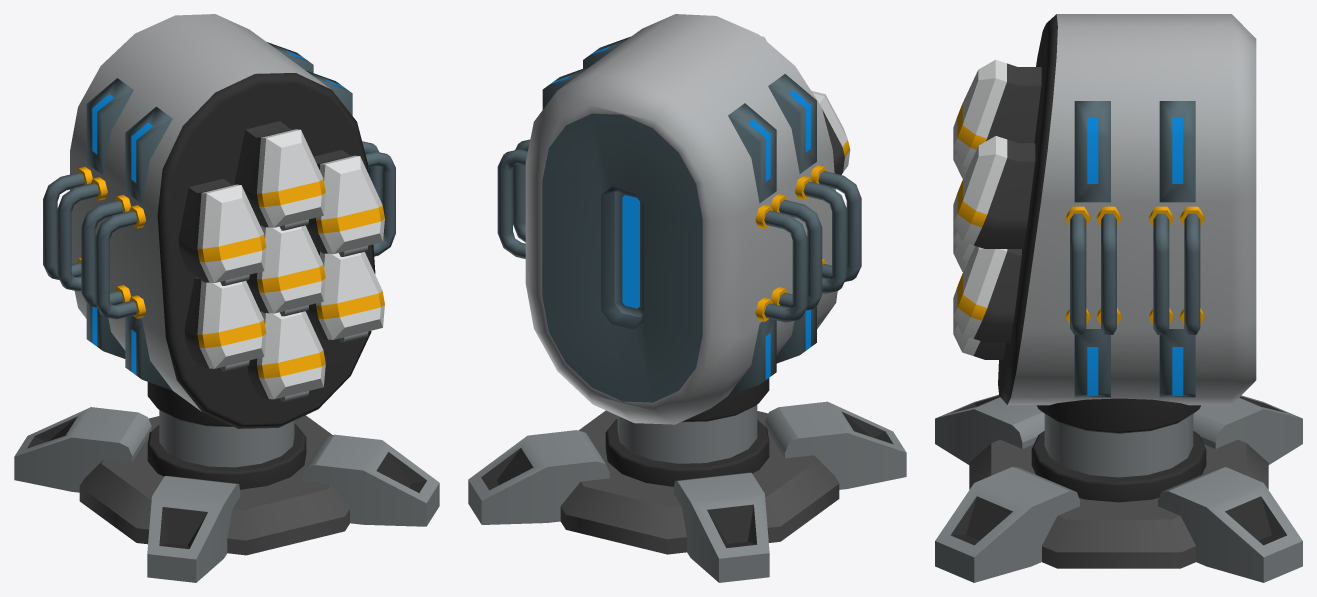
File: Turret_013.glb
The picture shows the model from 3 angles, left to right: view 1: azimuth 30°, elevation 25°; view 2: azimuth 150°, elevation 25°; view 3: azimuth 270°, elevation 25°; orthographic projection. The views are drawn at different scales.
Parts seen in each view (by area): view 1: Turret_013, Turret_013_door_001, Turret_013_door_002, Turret_013_door_003, Turret_013_door_007, Turret_013_door_004, Turret_013_door_006, Turret_013_door_005; view 2: Turret_013, Turret_013_door_001; view 3: Turret_013, Turret_013_door_003, Turret_013_door_002, Turret_013_door_005.
Boxes of the visible parts, x1,y1,x2,y2 form: Turret_013: (14,14,439,582); Turret_013_door_001: (197,184,266,282); Turret_013_door_002: (257,129,325,227); Turret_013_door_003: (316,155,384,254); Turret_013_door_007: (197,280,266,368); Turret_013_door_004: (257,225,325,313); Turret_013_door_006: (257,311,325,399); Turret_013_door_005: (316,251,384,339); Turret_013: (468,14,906,582); Turret_013_door_001: (811,90,850,172); Turret_013: (935,14,1302,582); Turret_013_door_003: (953,136,1007,245); Turret_013_door_002: (953,59,1006,167); Turret_013_door_005: (953,246,1007,338).
Bounding box in the file's own units: 2.14 × 3.03 × 2.11.
2 materials, 2 textured.
